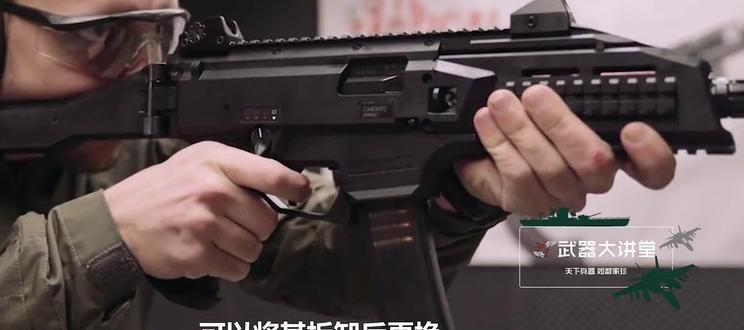gun: (1, 0, 744, 330)
